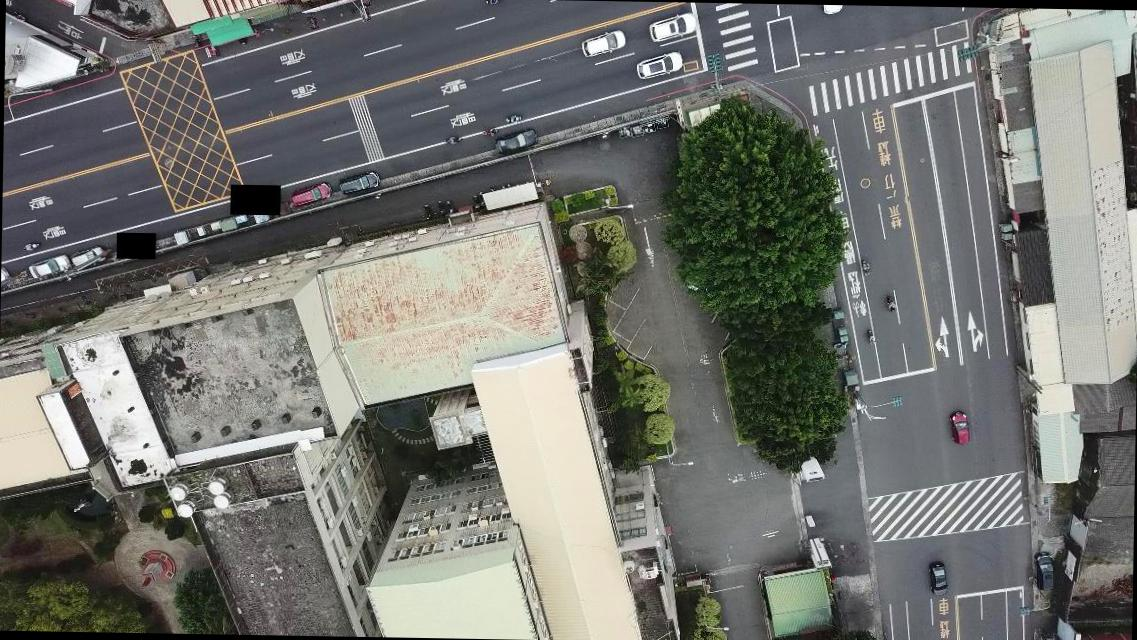vehicle: (648, 10, 696, 42), (580, 28, 627, 58), (635, 50, 682, 80), (494, 126, 538, 156), (338, 170, 380, 196), (28, 254, 72, 278), (291, 182, 332, 207), (69, 244, 108, 268), (947, 411, 972, 445), (1034, 552, 1054, 590), (928, 562, 948, 596)
